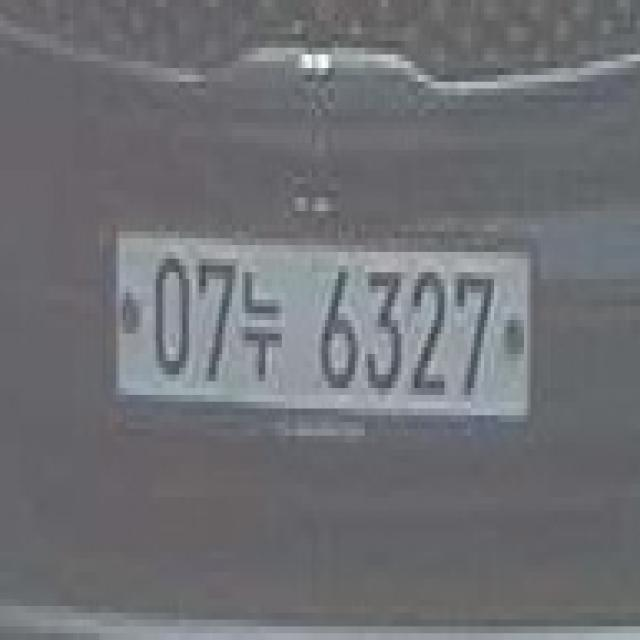plat: (108, 224, 539, 430)
